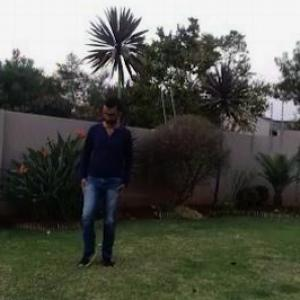follow: (75, 94, 131, 266)
